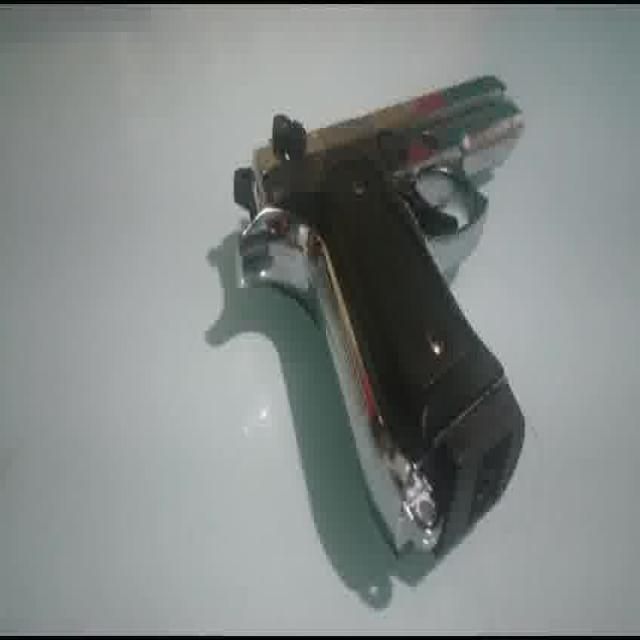weapon: (204, 72, 527, 560)
